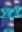recallP: (0, 0, 14, 18), (0, 18, 14, 32), (14, 0, 22, 18)
